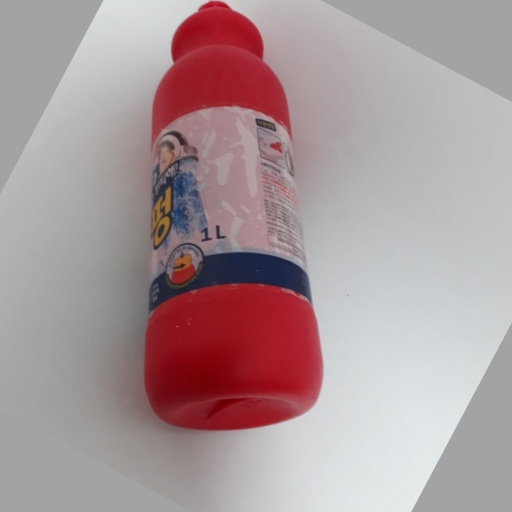Plastic_0: (148, 1, 326, 432)
